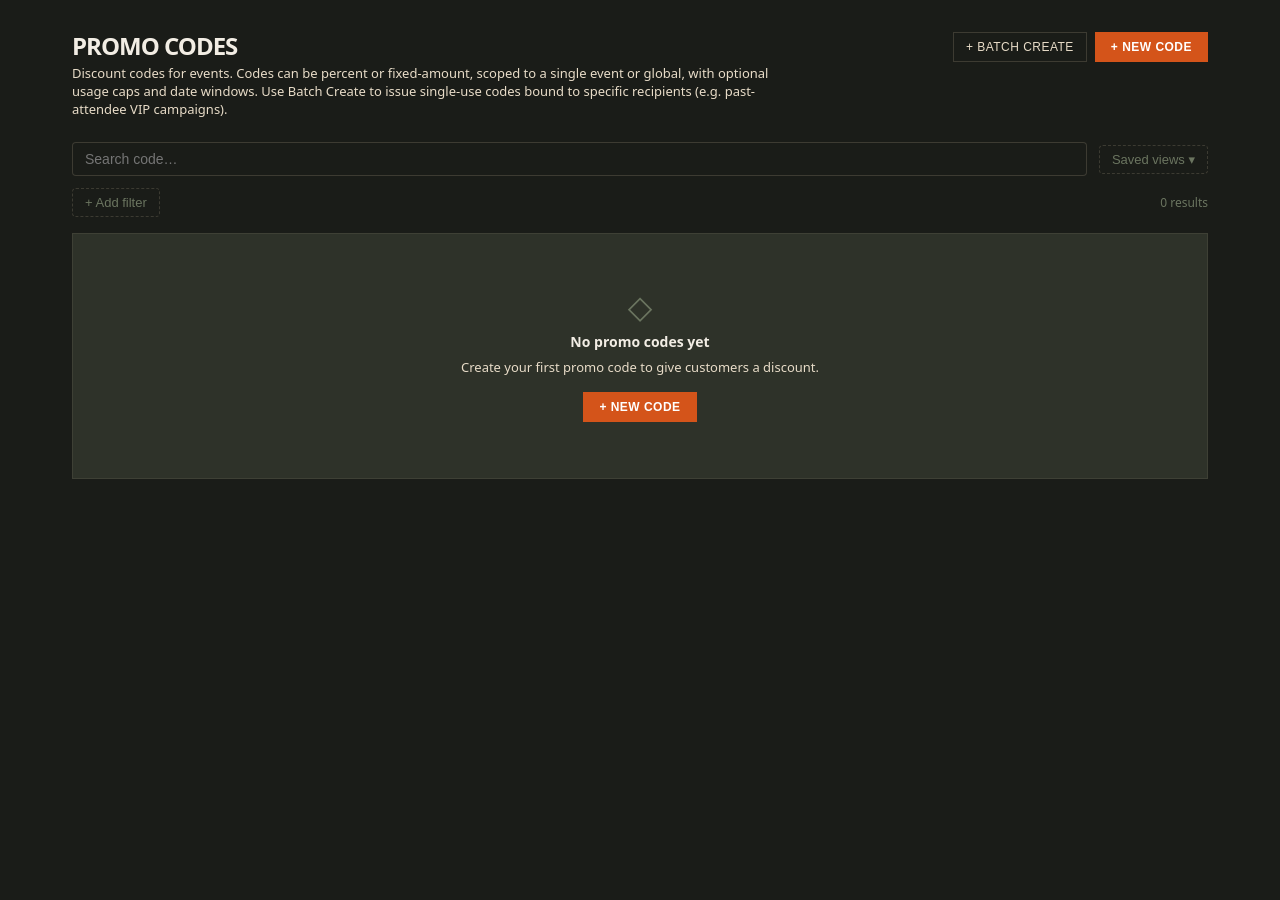
Test: AdminPromoCodes — shell (no virtualization needed) › opens the batch-create modal
This screenshot has width=1280, height=900.
Click the button "+ Batch Create" at (1020, 47), box x1=953 y1=32 x2=1087 y2=62
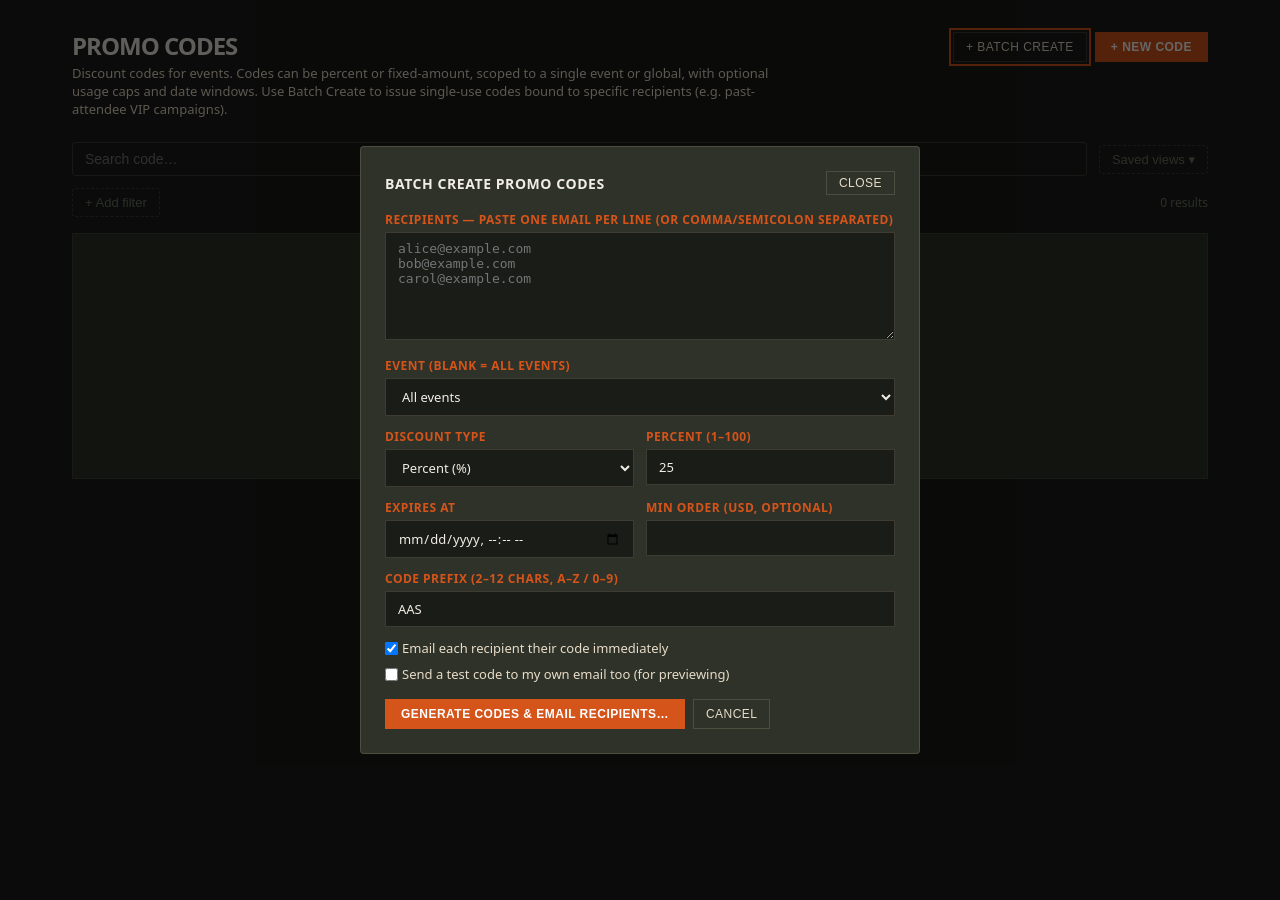
expect the heading "Batch create promo codes" is shown: met, box x1=385 y1=174 x2=605 y2=192
